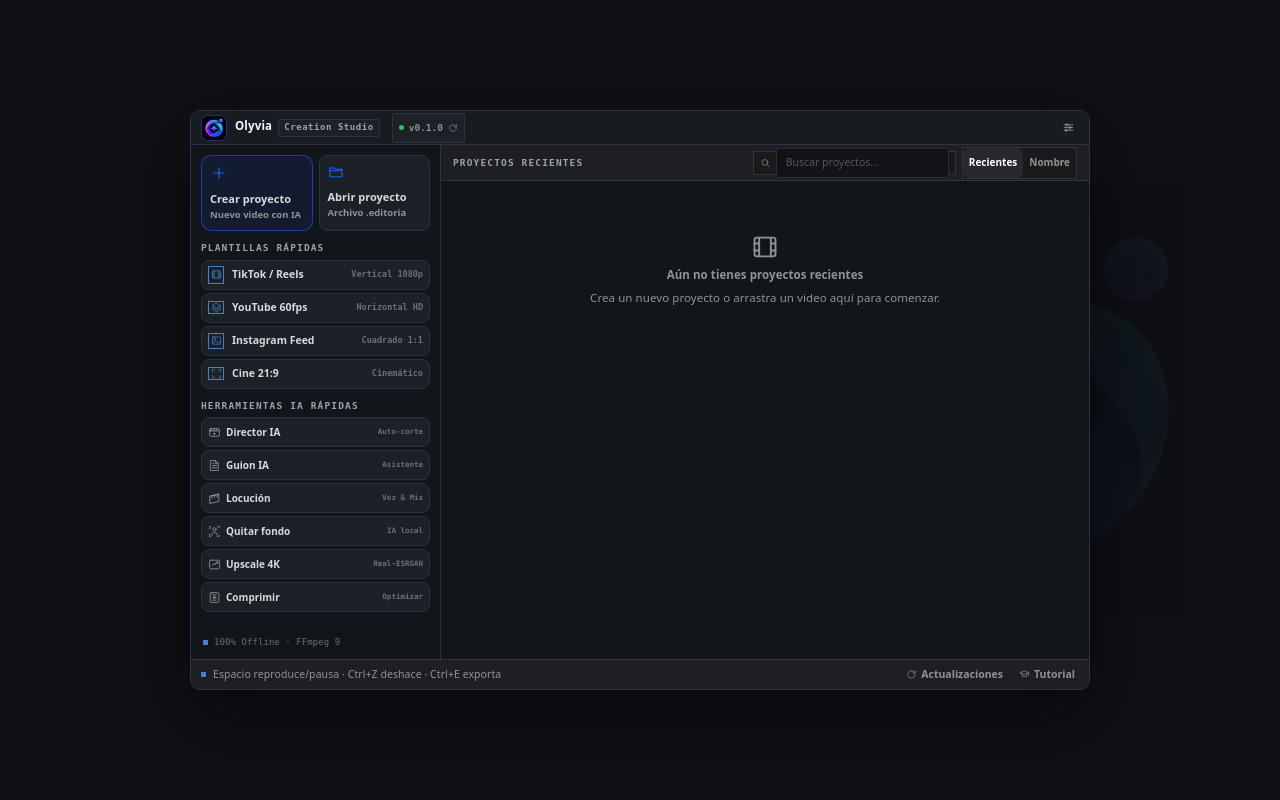
StartScreen · Ajustes en ventana flotante › abre la configuración ahí mismo sin entrar al editor
Click the button named "Ajustes" at (1065, 128), box 1051,112 -> 1079,142
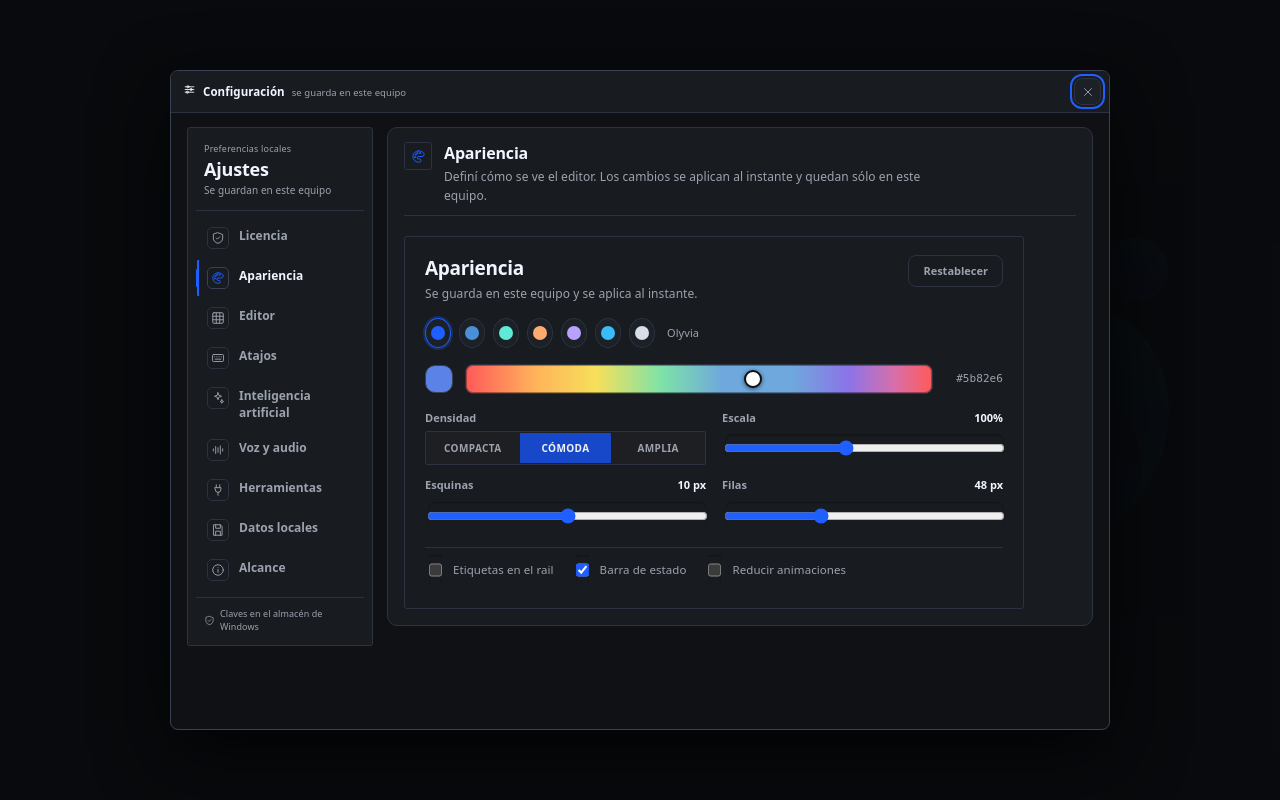
Now the dialog "Configuración" is shown
Click the button "Herramientas" at (280, 490), box 196,471 -> 364,509
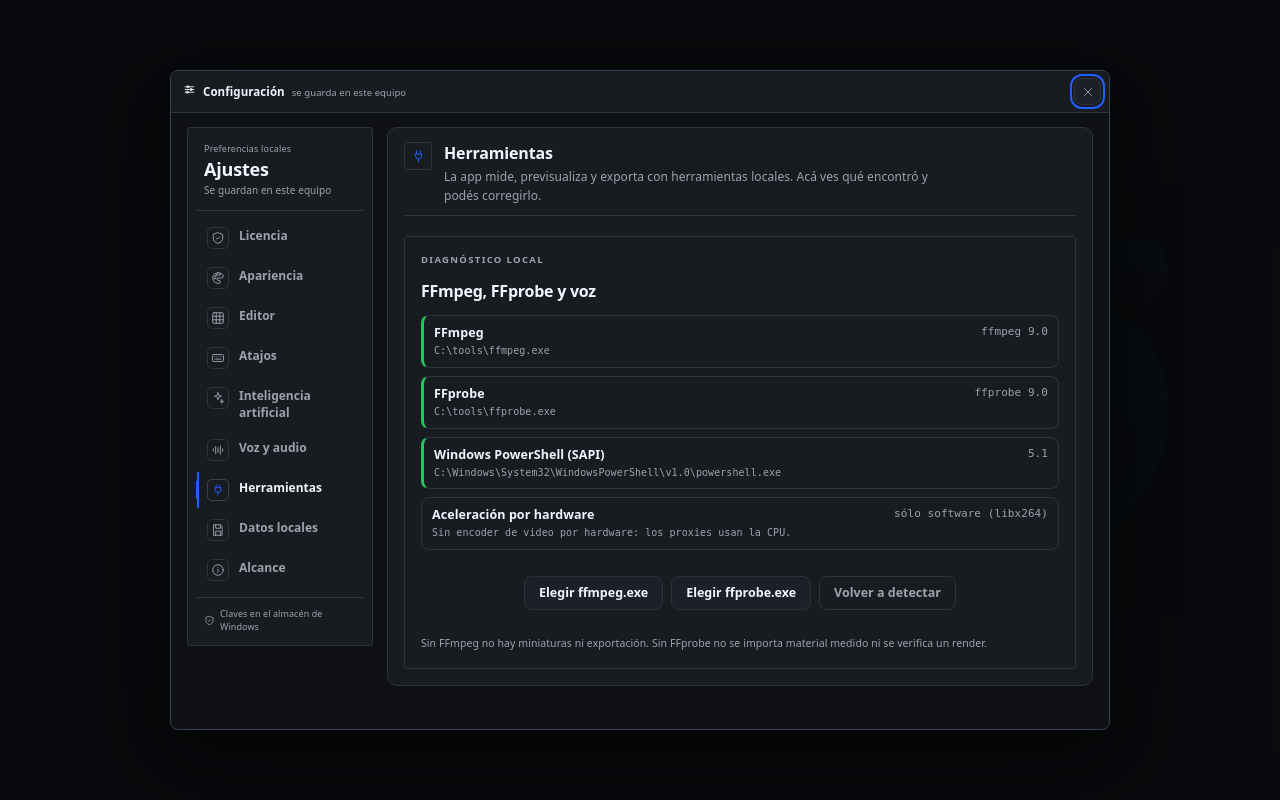
Now the heading "Herramientas" is shown, box 444,142 -> 553,164
